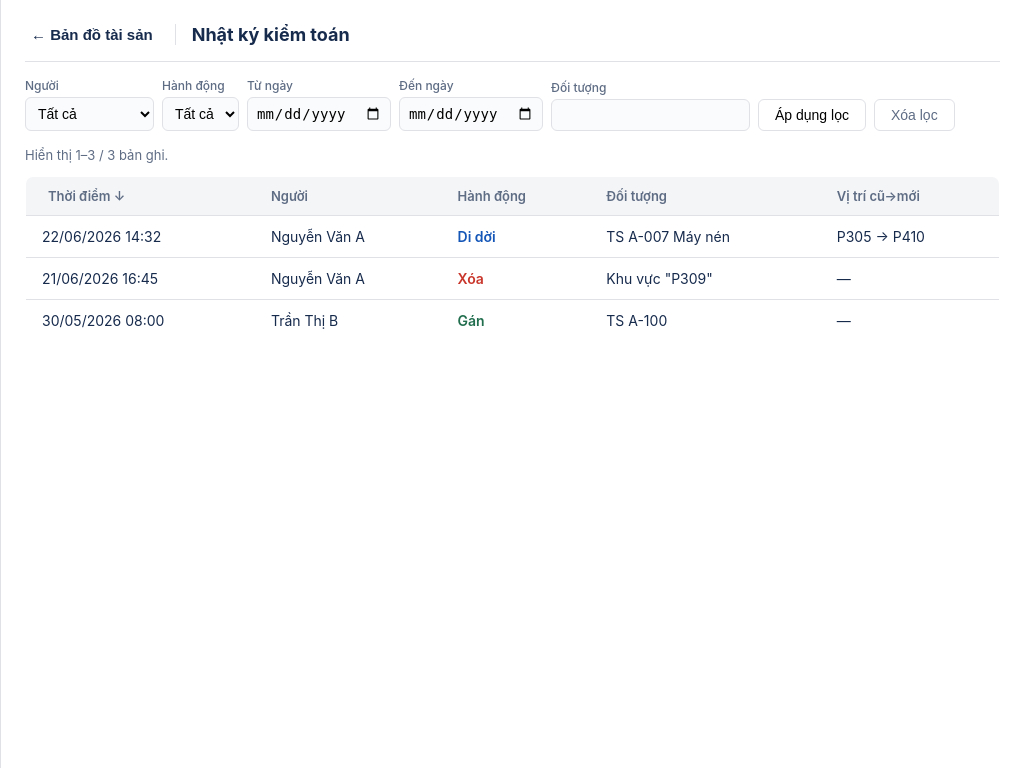
Test case: NhatKyPanel — S07 › TC-S07-04: lọc người Nguyễn Văn A
Select "Nguyễn Văn A" in the dropdown named "Lọc người" at {"x": 90, "y": 114}, box [25,97,154,131]
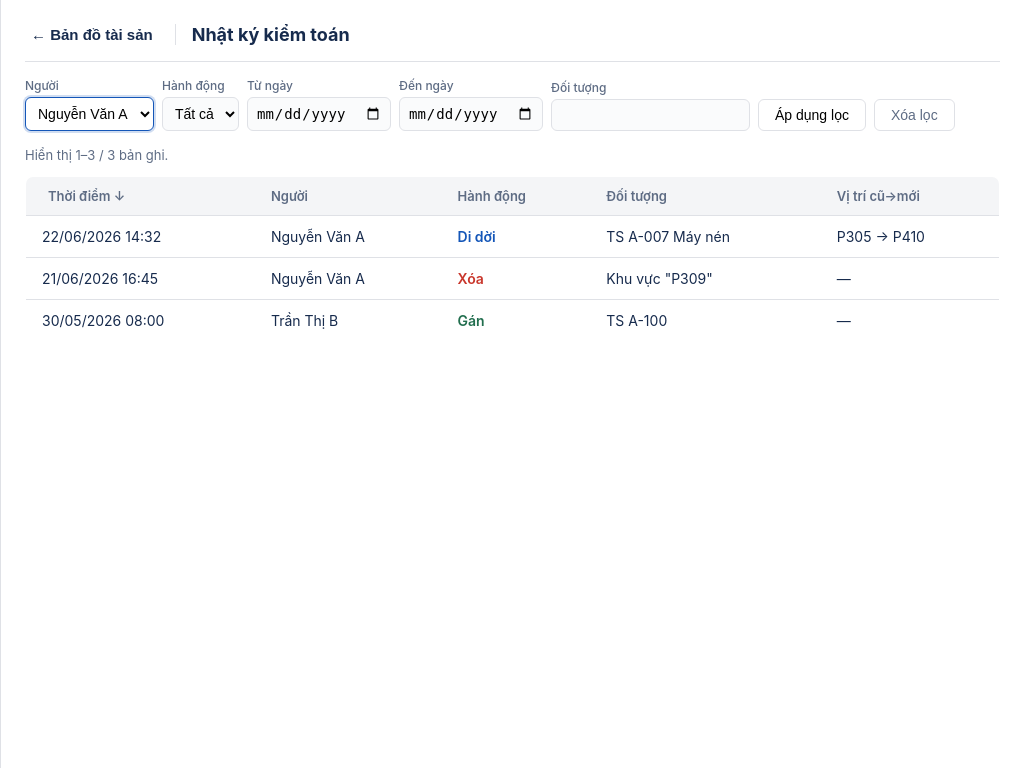
Click the button "Áp dụng lọc" at {"x": 812, "y": 115}, box [758,99,866,131]
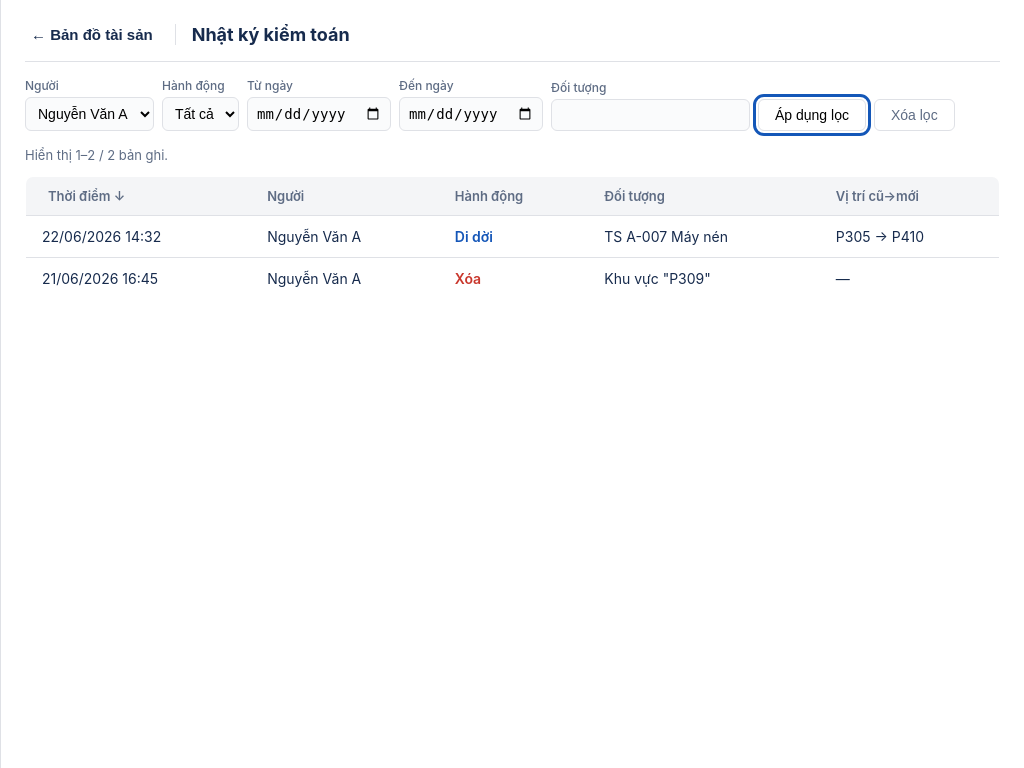
expect the text "Hiển thị 1–2 / 2 bản ghi." is shown: met, box [25,147,168,163]
